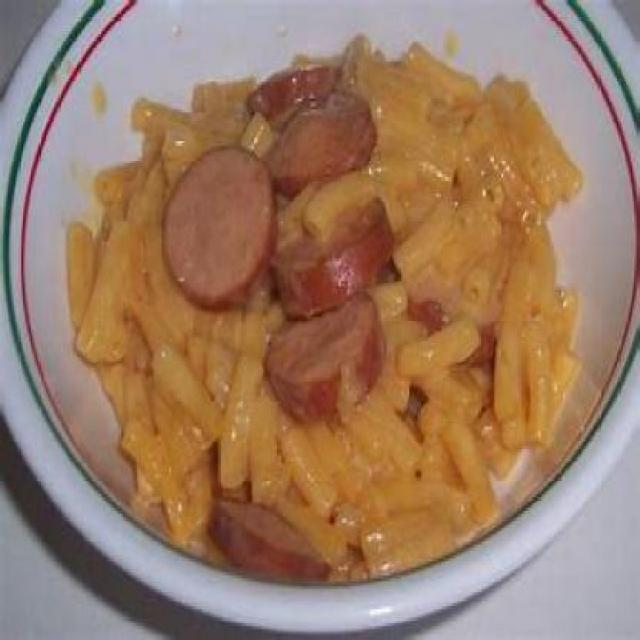hot dog: (158, 53, 388, 407), (210, 491, 338, 582)
macaroni and cheese: (61, 22, 590, 576)
